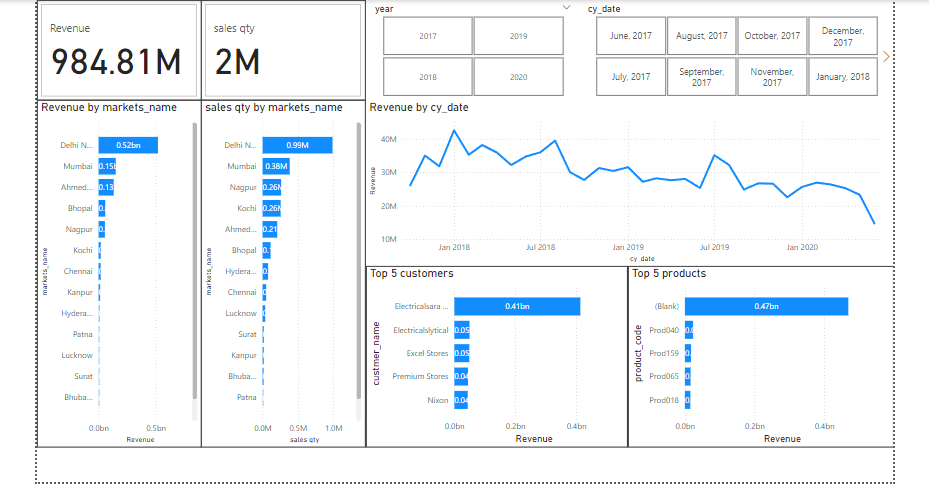

What the dashboard file says about the page in this screenshot:
{"tool":"powerbi","page":{"name":"Page 1","canvas":[1280,720],"ordinal":0},"visuals":[{"type":"cardVisual","fields":{"Data":["Basemeasure.Revenue"]},"box":[0,0,245.7,150],"z":0},{"type":"cardVisual","fields":{"Data":["Basemeasure.sales qty"]},"box":[245.7,0,245.7,150],"z":1000},{"type":"barChart","fields":{"Y":["Basemeasure.Revenue"],"Category":["sales markets.markets_name"]},"box":[0,150,245.7,518.6],"z":2000},{"type":"barChart","fields":{"Y":["Basemeasure.sales qty"],"Category":["sales markets.markets_name"]},"box":[245.7,150,245.7,518.6],"z":3000},{"type":"slicer","fields":{"Values":["sales date.year"]},"box":[491.4,0,318.6,150],"z":4000},{"type":"slicer","fields":{"Values":["sales date.cy_date"]},"box":[810,0,470,150],"z":5000},{"type":"barChart","title":"Top 5 customers","fields":{"Category":["sales customers.custmer_name"],"Y":["Basemeasure.Revenue"]},"box":[491.4,397.1,391.4,271.4],"z":6000},{"type":"barChart","title":"Top 5 products","fields":{"Category":["sales products.product_code"],"Y":["Basemeasure.Revenue"]},"box":[882.9,397.1,397.1,271.4],"z":7000},{"type":"lineChart","fields":{"Category":["sales date.cy_date"],"Y":["Basemeasure.Revenue"]},"box":[491.4,150,788.6,247.1],"z":8000}]}

Visuals, with their boxes in screenshot pixels (x1, y1, x2, y2):
cardVisual - Basemeasure.Revenue: box=[34, 0, 198, 98]
cardVisual - Basemeasure.sales qty: box=[198, 0, 363, 98]
barChart - Basemeasure.Revenue x sales markets.markets_name: box=[34, 98, 198, 445]
barChart - Basemeasure.sales qty x sales markets.markets_name: box=[198, 98, 363, 445]
slicer - sales date.year: box=[363, 0, 576, 98]
slicer - sales date.cy_date: box=[576, 0, 891, 98]
"Top 5 customers" barChart: box=[363, 263, 625, 445]
"Top 5 products" barChart: box=[625, 263, 891, 445]
lineChart - sales date.cy_date x Basemeasure.Revenue: box=[363, 98, 891, 263]
